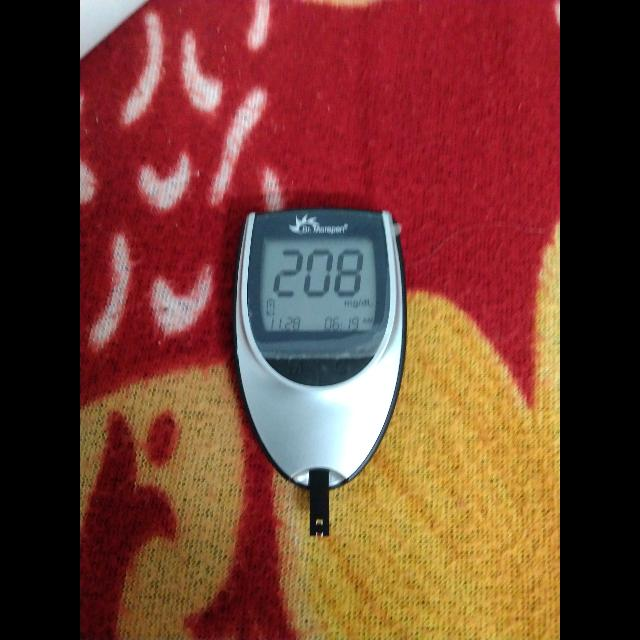Glucose-Meter: (233, 207, 407, 537)
